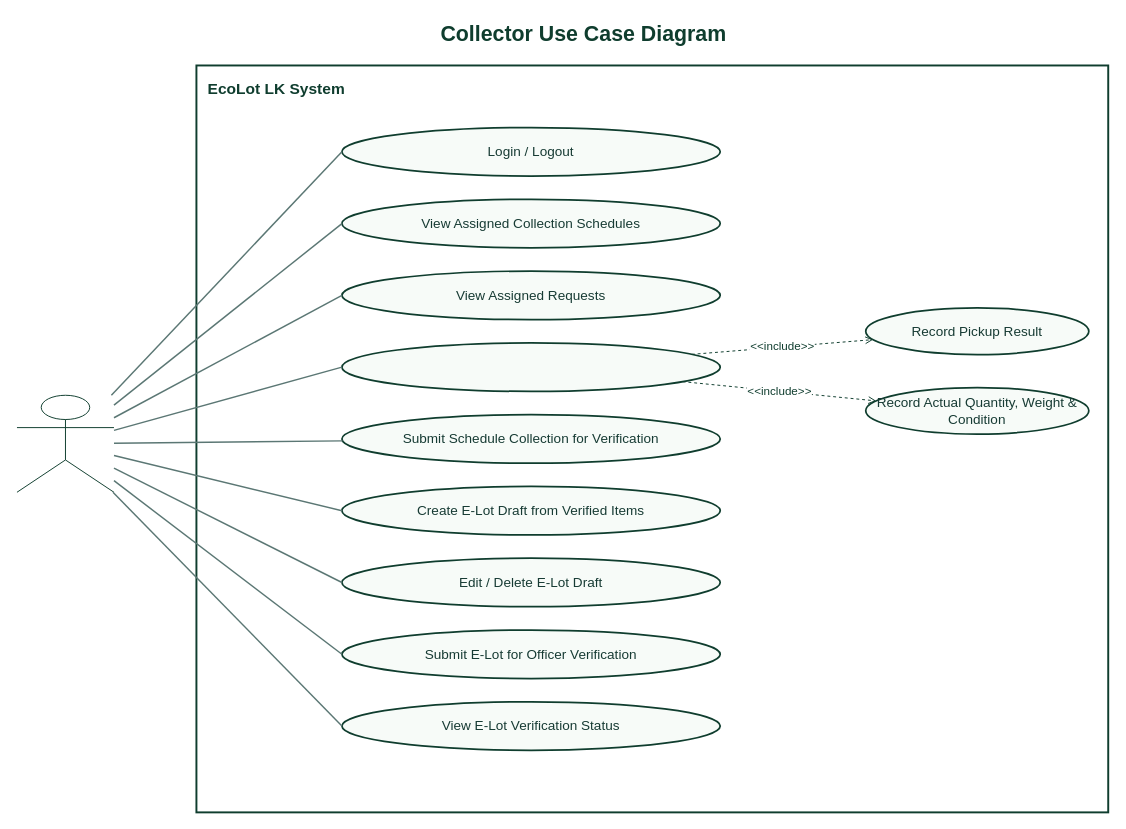
Some shapes in this 1126 by 829 pixel diagram are drawn without their labels. Here are the shapes that lost their labels. From the top down, the box of each, then its label:
(341, 342, 721, 392): Record Collection Details
(16, 394, 114, 492): Collector
